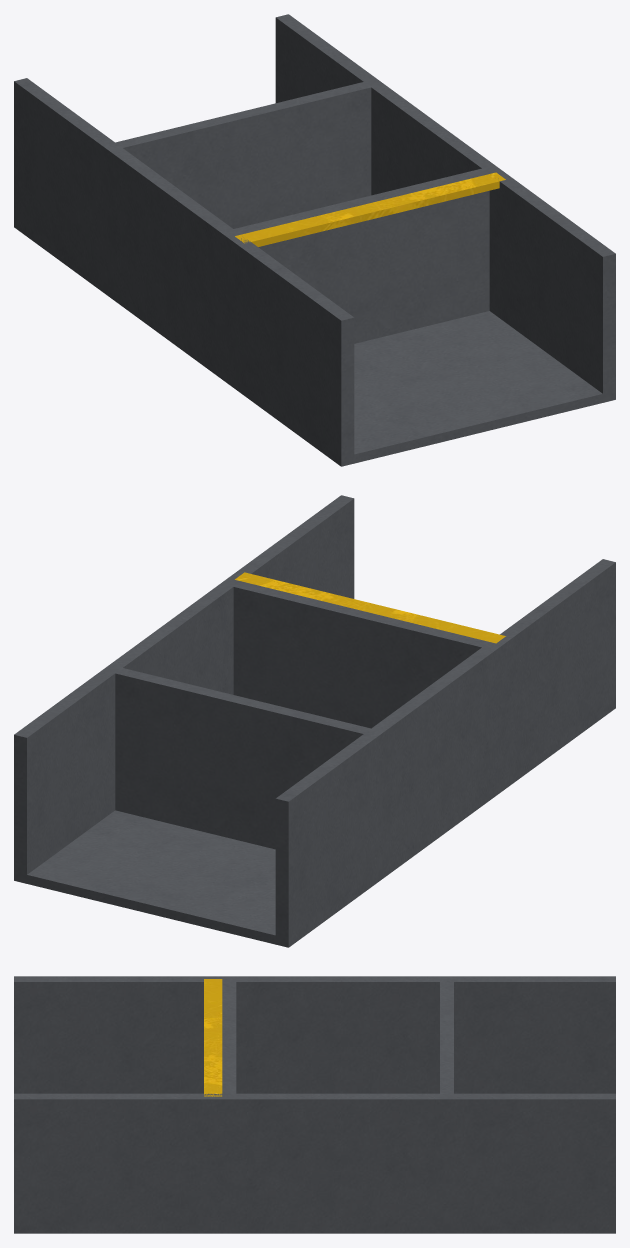
The model's file is tool_rack.glb.
3 views of the same model, one above another, from view 1: azimuth 30°, elevation 25°; view 2: azimuth 150°, elevation 25°; view 3: azimuth 270°, elevation 25° (orthographic). The views are drawn at different scales.
Parts seen in each view (by area): view 1: tool_rack; view 2: tool_rack; view 3: tool_rack.
Boxes of the visible parts, box(x1,y1,x2,y2) form: tool_rack: box(14, 14, 615, 466); tool_rack: box(14, 495, 615, 947); tool_rack: box(14, 976, 615, 1233).
Bounding box in the file's own units: 0.63 × 0.32 × 1.3.
2 materials, 2 textured.
